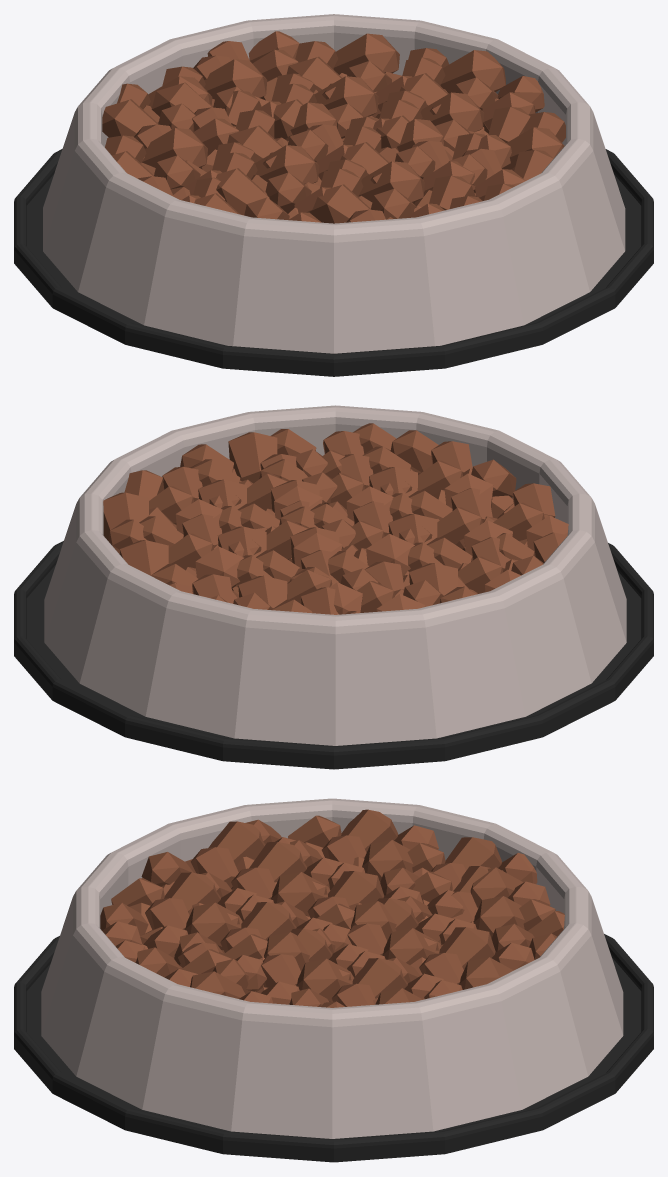
File: bowl2.glb
3 views of the same model, one above another, from view 1: azimuth 30°, elevation 25°; view 2: azimuth 150°, elevation 25°; view 3: azimuth 270°, elevation 25° (orthographic).
Visible parts, largest first — view 1: Cylinder002, Cylinder001, Sphere239, Sphere243, Sphere269, Sphere228, Sphere258, Sphere203, Sphere215, Sphere252, Sphere235, Sphere231 (+52 smaller); view 2: Cylinder002, Cylinder001, Sphere282, Sphere243, Sphere283, Sphere239, Sphere237, Sphere199, Sphere257, Sphere236, Sphere274, Sphere258 (+61 smaller); view 3: Cylinder002, Cylinder001, Sphere269, Sphere215, Sphere203, Sphere273, Sphere237, Sphere204, Sphere199, Sphere258, Sphere219, Sphere228 (+48 smaller).
Boxes of the visible parts, left/top/right/bottom form: Cylinder002: left=43, top=14, right=625, bottom=353; Cylinder001: left=14, top=149, right=653, bottom=376; Sphere239: left=333, top=33, right=399, bottom=74; Sphere243: left=440, top=50, right=505, bottom=93; Sphere269: left=358, top=161, right=424, bottom=202; Sphere228: left=142, top=128, right=207, bottom=167; Sphere258: left=204, top=59, right=267, bottom=99; Sphere203: left=255, top=145, right=319, bottom=183; Sphere215: left=420, top=92, right=484, bottom=131; Sphere252: left=314, top=76, right=378, bottom=116; Sphere235: left=310, top=184, right=370, bottom=223; Sphere231: left=102, top=99, right=158, bottom=137; Cylinder002: left=44, top=405, right=626, bottom=745; Cylinder001: left=14, top=541, right=653, bottom=769; Sphere282: left=228, top=432, right=277, bottom=483; Sphere243: left=103, top=492, right=148, bottom=540; Sphere283: left=390, top=430, right=438, bottom=472; Sphere239: left=120, top=540, right=168, bottom=575; Sphere237: left=195, top=546, right=243, bottom=588; Sphere199: left=366, top=534, right=414, bottom=573; Sphere257: left=437, top=507, right=482, bottom=544; Sphere236: left=168, top=533, right=213, bottom=568; Sphere274: left=493, top=502, right=544, bottom=541; Sphere258: left=238, top=575, right=287, bottom=608; Cylinder002: left=41, top=798, right=623, bottom=1138; Cylinder001: left=14, top=934, right=653, bottom=1162; Sphere269: left=184, top=902, right=242, bottom=950; Sphere215: left=296, top=958, right=353, bottom=1001; Sphere203: left=271, top=872, right=330, bottom=916; Sphere273: left=208, top=821, right=265, bottom=866; Sphere237: left=439, top=927, right=495, bottom=968; Sphere204: left=249, top=842, right=307, bottom=882; Sphere199: left=328, top=871, right=384, bottom=905; Sphere258: left=473, top=896, right=524, bottom=938; Sphere219: left=341, top=809, right=398, bottom=852; Sphere228: left=362, top=840, right=413, bottom=881.
Bounding box in the file's own units: 583721 × 121004 × 574853.
